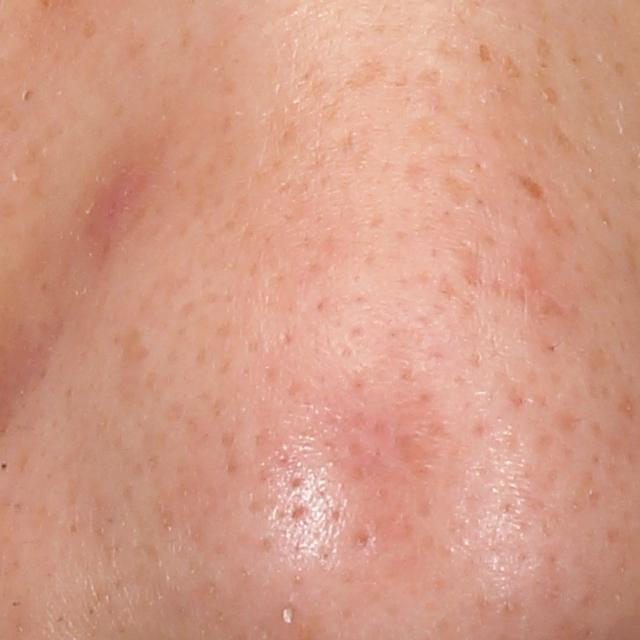atrophic_scar: (448, 241, 491, 288)
melasma: (499, 50, 527, 82), (473, 43, 494, 69), (535, 35, 555, 61)
